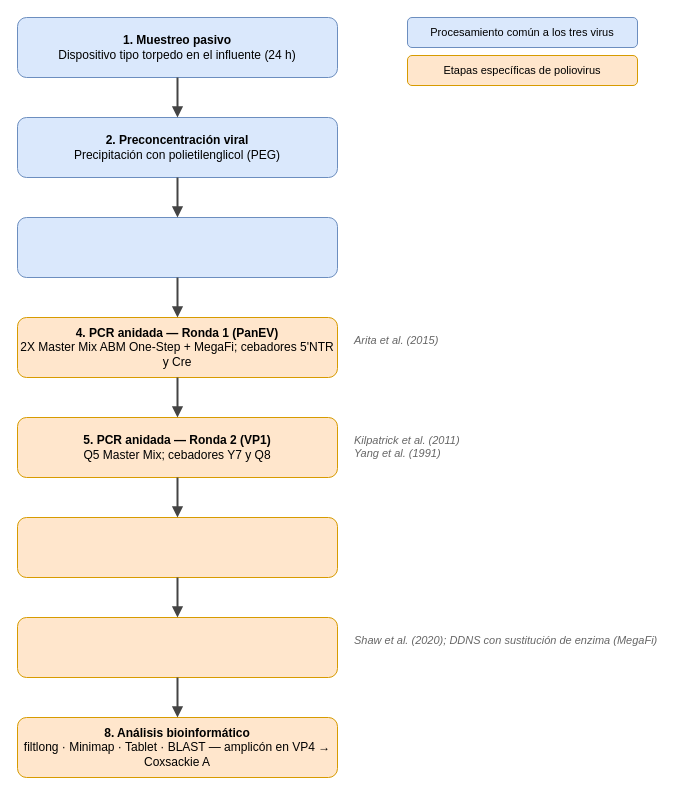
This 675x795 diagram has some shape labels left out. The shapes that lost their labels are listed below. From the top down, each one's centre as x and y in pixels, then its label:
pixel 177 247: 3. Extracción de ARN Kit Quick-RNA Viral (Zymo Research)
pixel 177 547: 6. Electroforesis en gel de agarosa Confirmación de amplificación
pixel 177 647: 7. Bibliotecas y secuenciación Nanopore Native Barcoding Kit (Oxford Nanopore)
